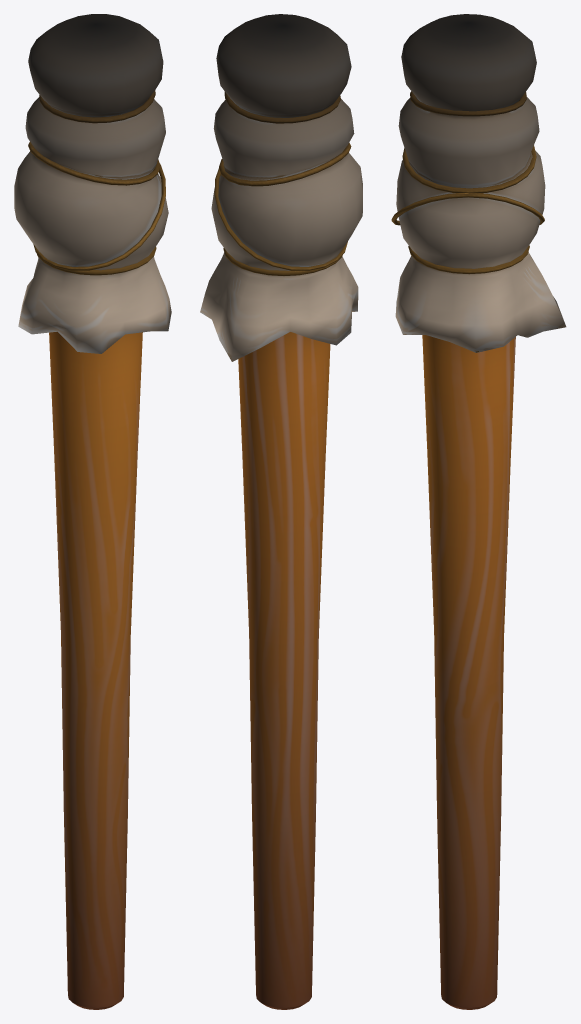
Rendered from Torch.fbx.
3 renders of one model, left to right at view 1: azimuth 30°, elevation 25°; view 2: azimuth 150°, elevation 25°; view 3: azimuth 270°, elevation 25°, orthographic.
Visible parts, largest first — view 1: Cylinder003; view 2: Cylinder003; view 3: Cylinder003.
Part boxes in pixels (<box>): Cylinder003: <box>14,14,171,1009</box>; Cylinder003: <box>200,14,362,1009</box>; Cylinder003: <box>391,14,566,1009</box>.
Bounding box in the file's own units: 20.73 × 137 × 22.04.
